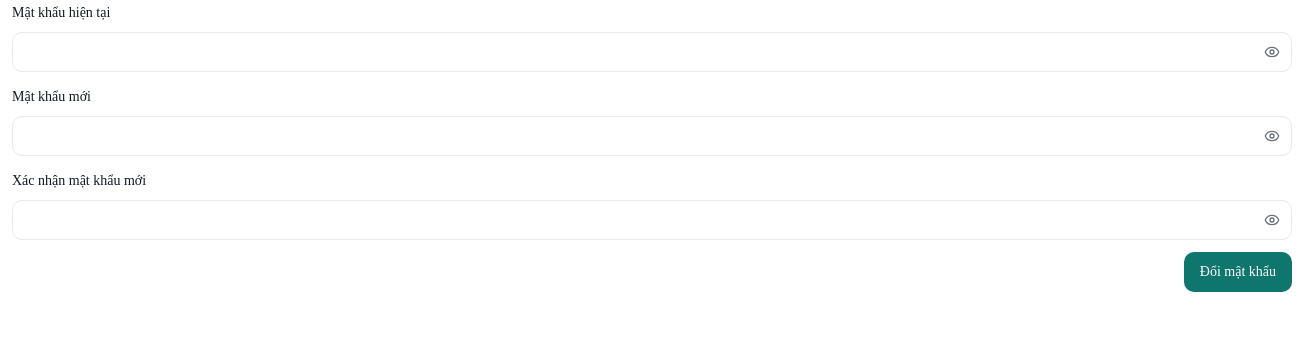
Scenario: ChangePasswordForm › quá nhiều lần sai → báo thử lại sau
Step 1. Type "teacher123" into the password field with id "current-pw" → (652, 52), box [12,32,1292,72]
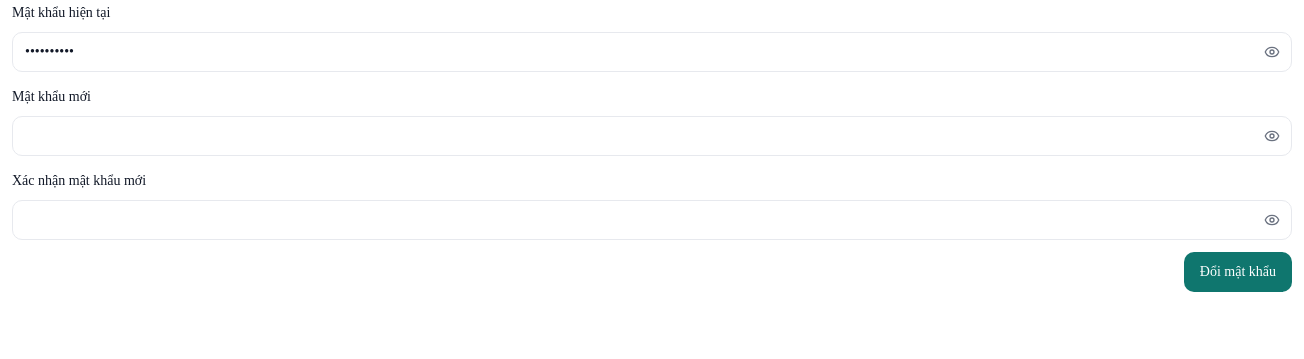
Step 2. Type "NewSecret@2026" into the password field with id "new-pw" → (652, 136), box [12,116,1292,156]
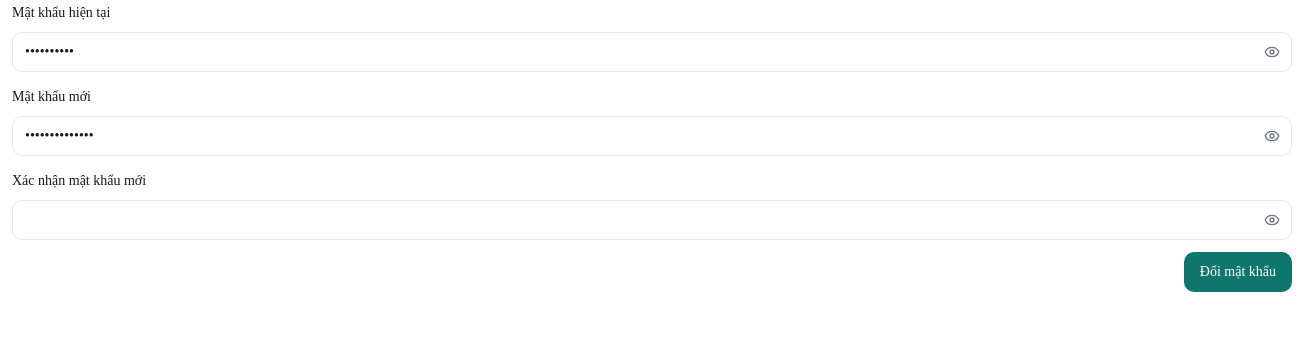
Step 3. Type "NewSecret@2026" into the password field with id "confirm-pw" → (652, 220), box [12,200,1292,240]
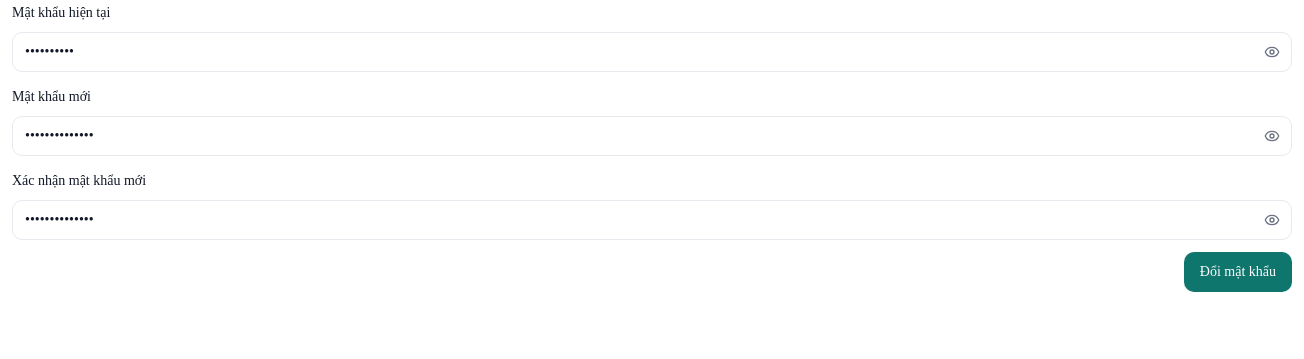
Step 4. Click the button "Đổi mật khẩu" → (1238, 272), box [1184,252,1292,292]
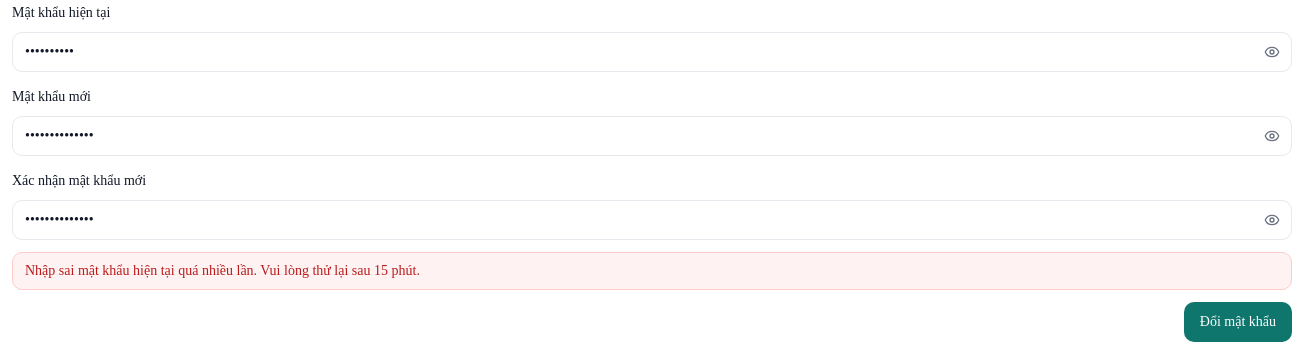
Check: the message reads "Nhập sai mật khẩu hiện tại quá nhiều lần. Vui lòng thử lại sau 15 phút.", box [25,263,420,278]
